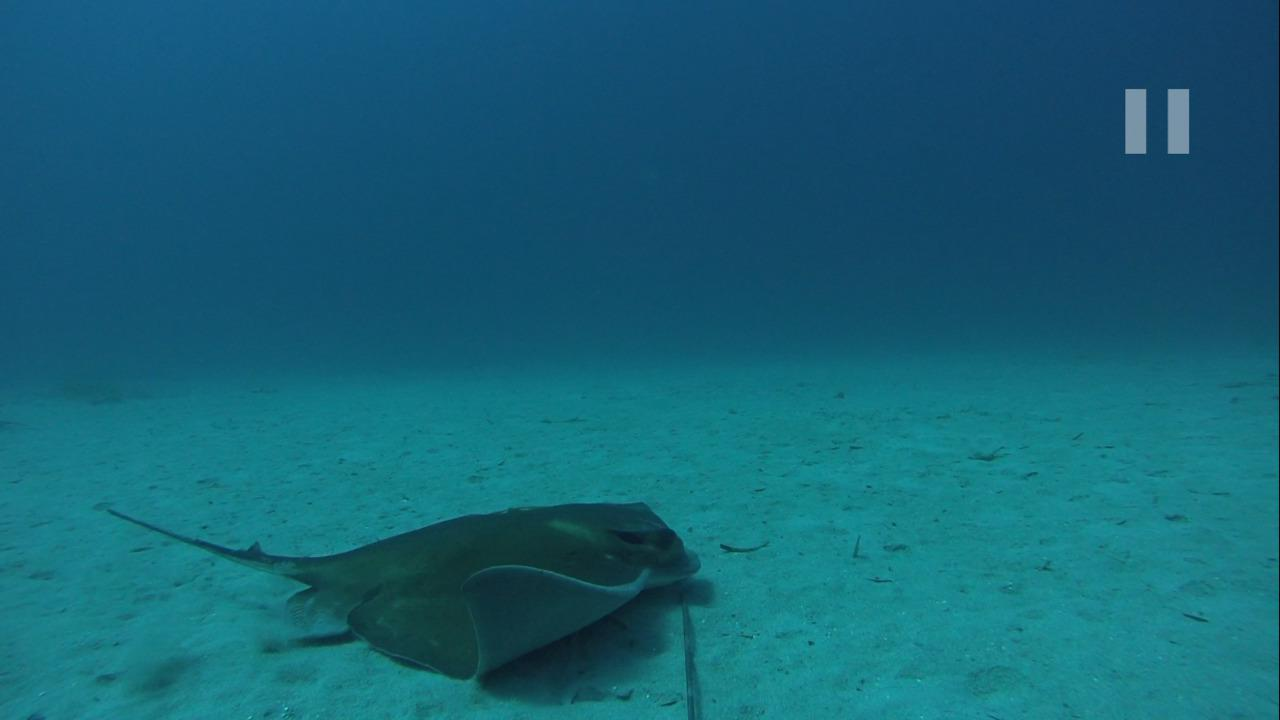myliobatis: (82, 482, 703, 702)
